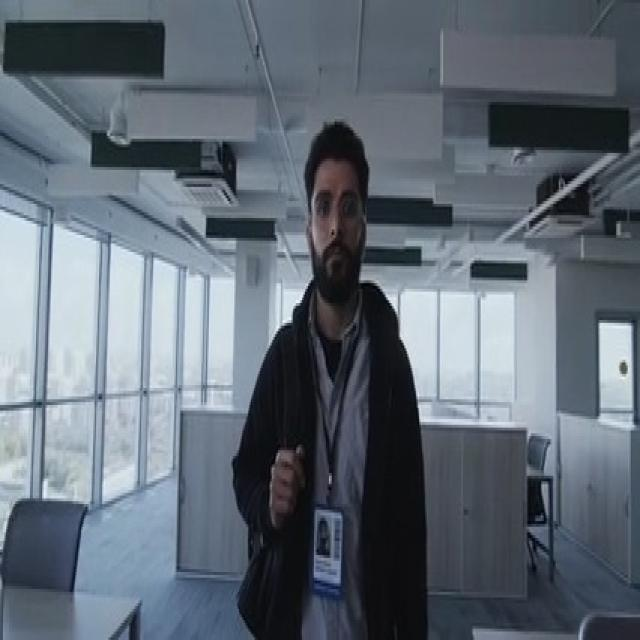Jacket_Wearer: (232, 265, 424, 633)
Person: (230, 116, 424, 640)
